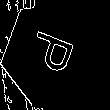P_E: (26, 29, 84, 81)
